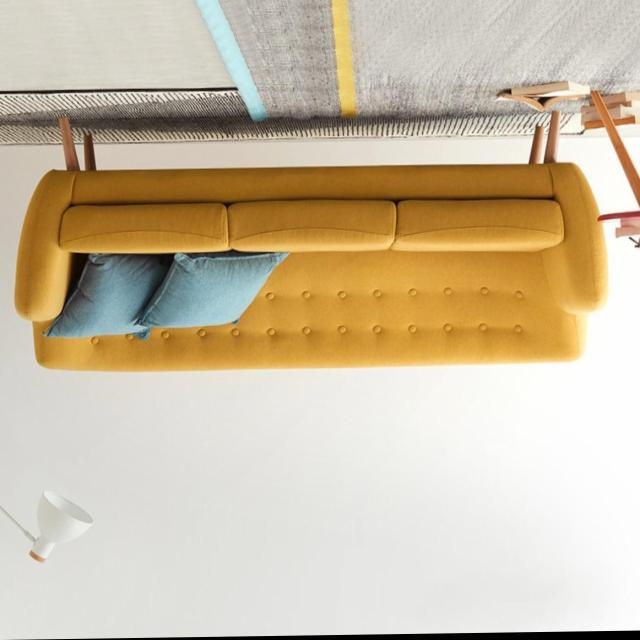Sofa: (14, 111, 608, 372)
